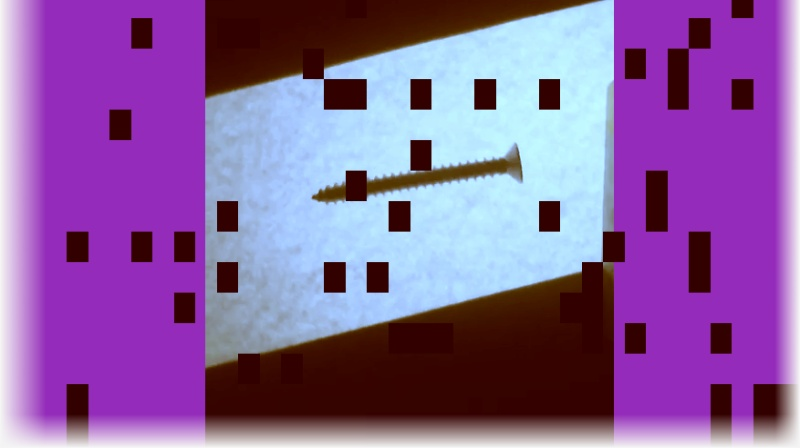S002: (311, 139, 527, 205)
